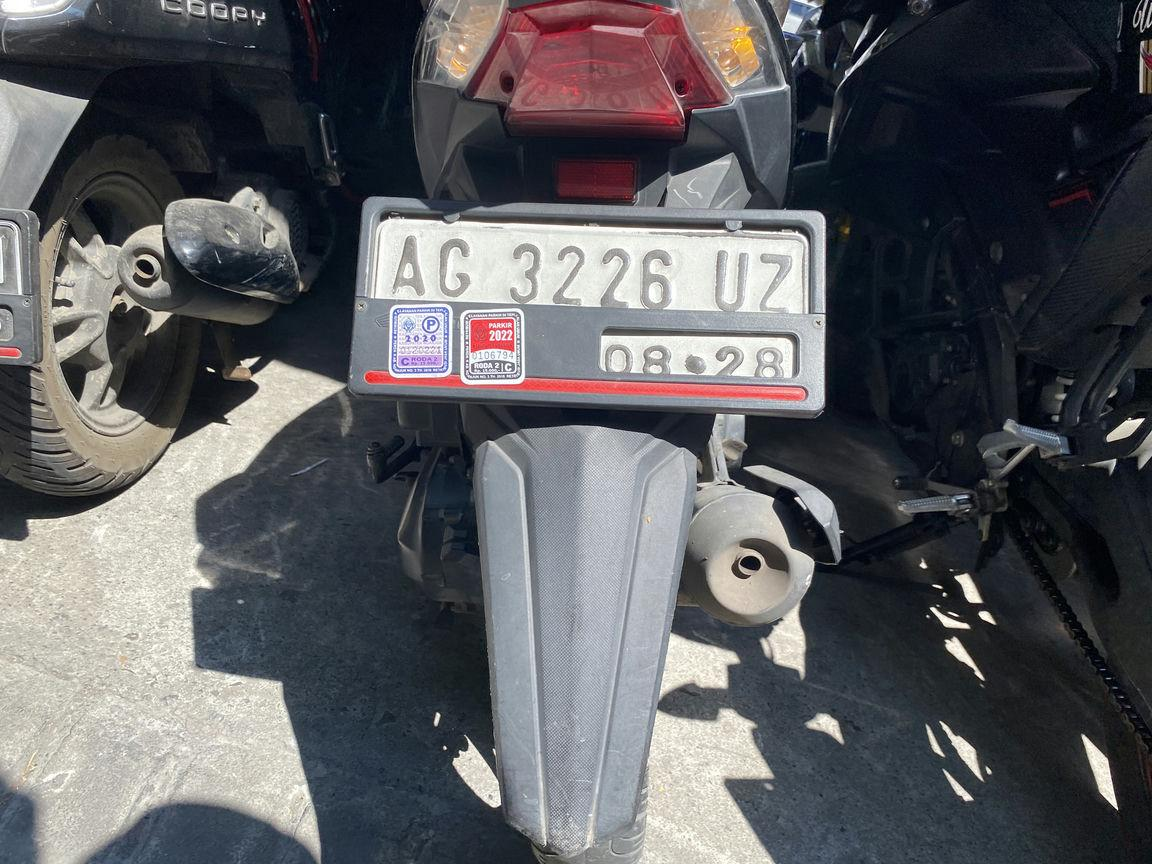plat: (351, 198, 826, 416)
